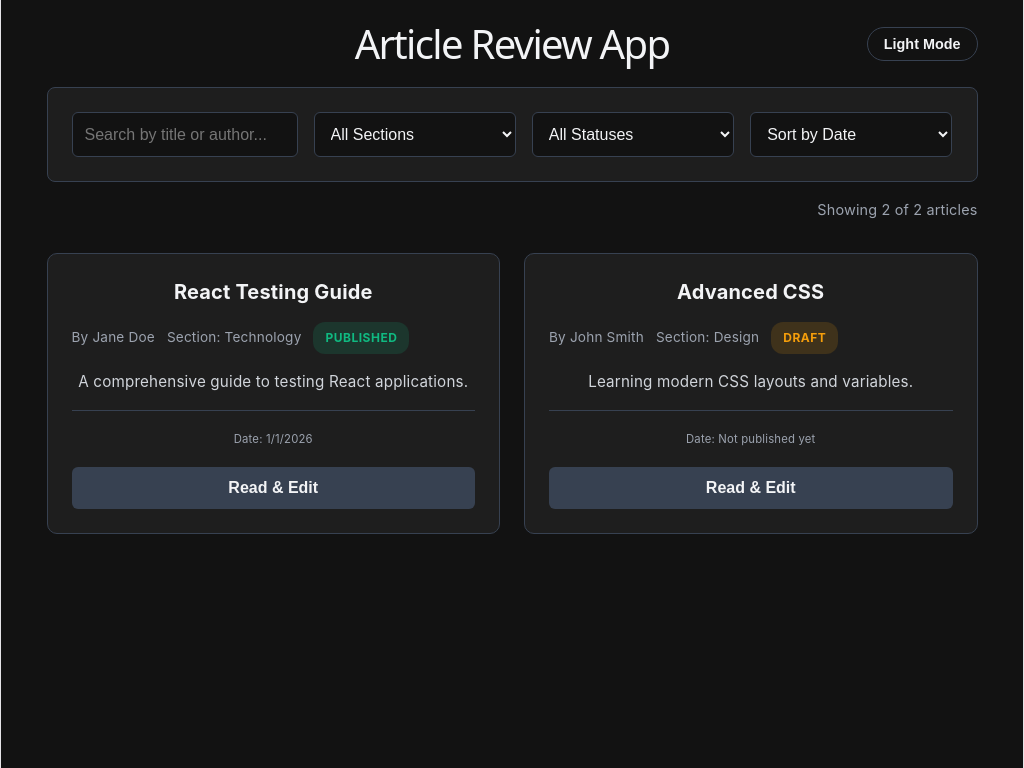
Test: Article Review App Requirements › 1. filters the article list correctly based on search input
Expected: the heading "React Testing Guide" is shown, [174, 280, 373, 304]
Note: Type in the search input
Type "CSS" into the field with placeholder "Search by title or author..." at [184, 135], box [72, 112, 298, 157]
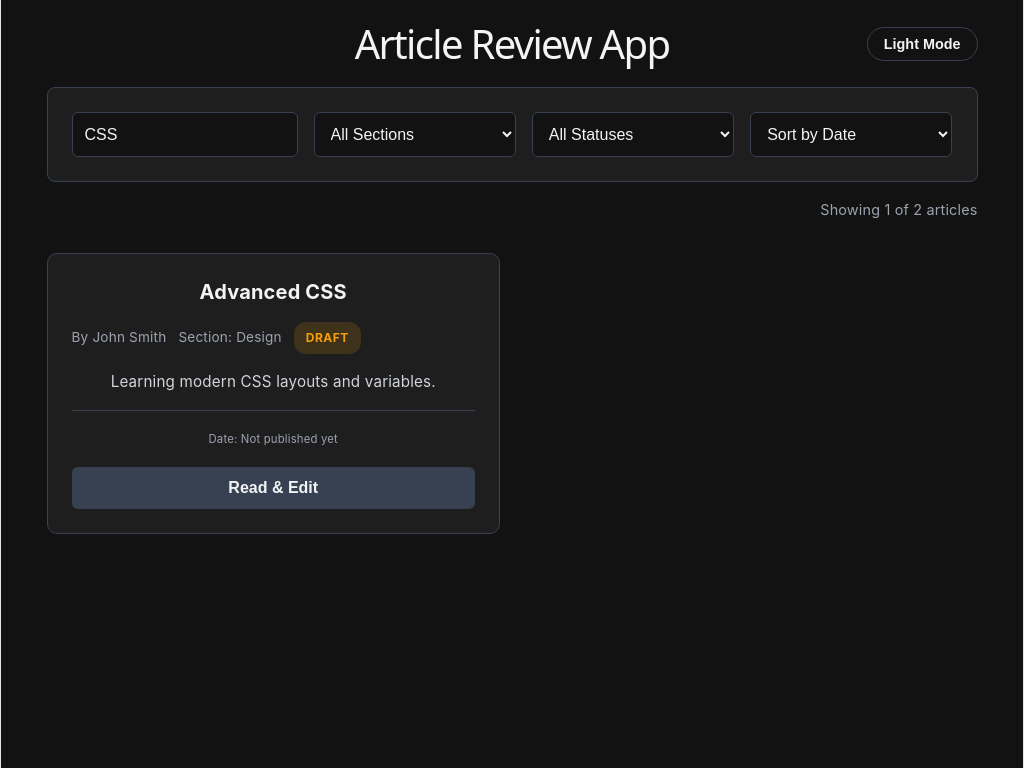
Expected: the heading "Advanced CSS" is shown, [200, 280, 347, 304]
Now the heading "React Testing Guide" is gone
